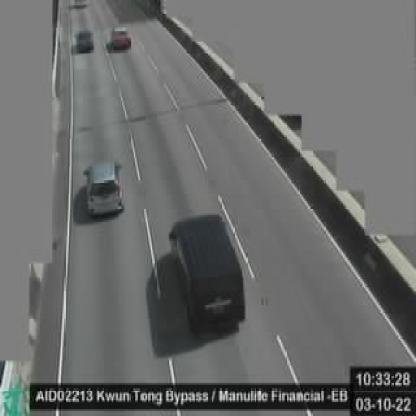Car: (168, 215, 244, 329), (82, 160, 125, 213), (109, 26, 131, 50), (76, 27, 94, 48)
